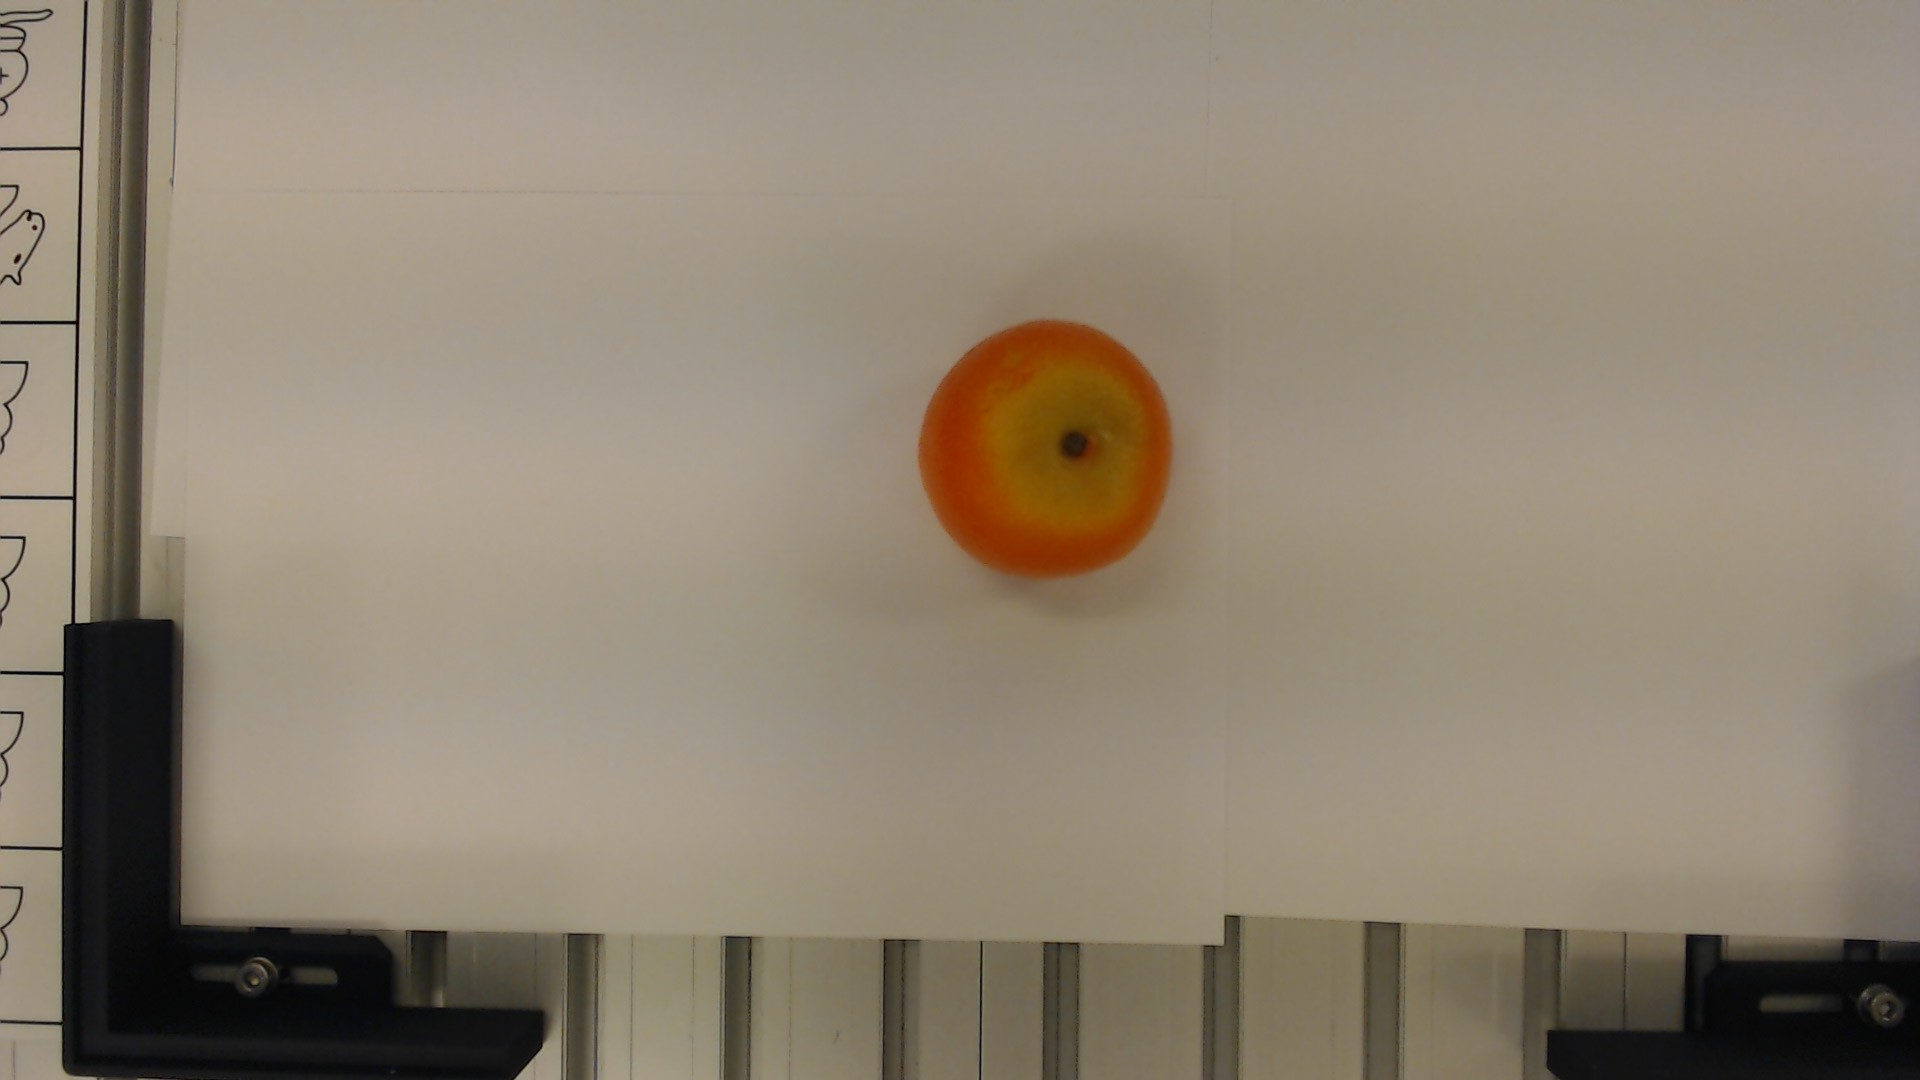Mandarin: (909, 314, 1178, 582)
